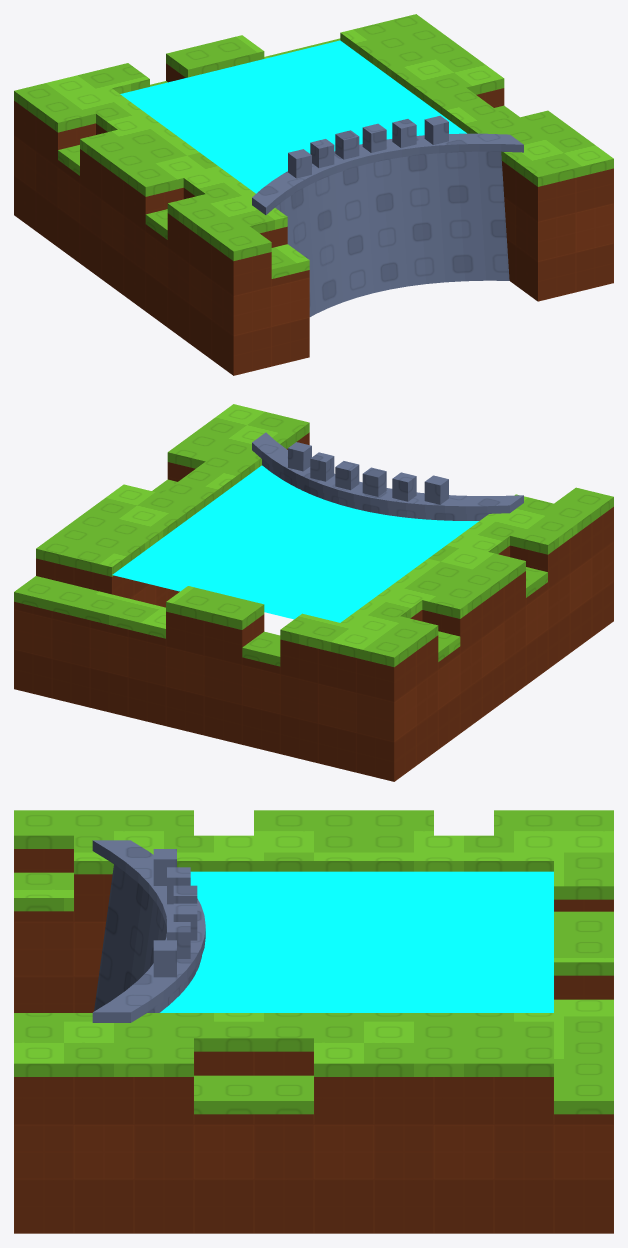
The model's file is Grand_Barrage.glb.
The picture shows the model from 3 angles, top to bottom: view 1: azimuth 30°, elevation 25°; view 2: azimuth 150°, elevation 25°; view 3: azimuth 270°, elevation 25°; orthographic projection. The views are drawn at different scales.
Visible parts, largest first — view 1: Grand_Barrage; view 2: Grand_Barrage; view 3: Grand_Barrage.
Boxes of the visible parts, x1,y1,x2,y2 form: Grand_Barrage: (14,14,613,375); Grand_Barrage: (14,404,613,781); Grand_Barrage: (14,810,613,1233).
Size of the model in its own units: 10.24 by 3.9 by 10.24.
Materials: 4 (3 with a texture image).
